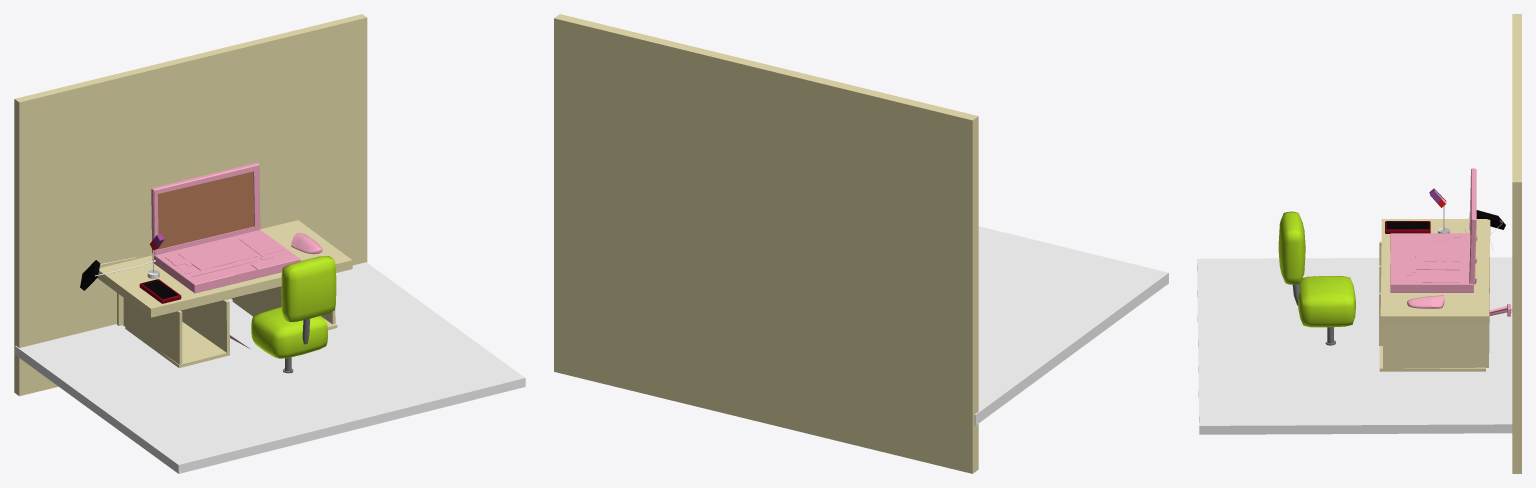
File: scene 2 clean.fbx
The picture shows the model from 3 angles, left to right: view 1: azimuth 30°, elevation 25°; view 2: azimuth 150°, elevation 25°; view 3: azimuth 270°, elevation 25°; orthographic projection. The views are drawn at different scales.
Parts seen in each view (by area): view 1: pCube1, pCube2, asset4laptop_pCube2, asset3:desktop, asset4laptop_pCube1, asset8_pCube1, asset8_pCube2, asset3:pCube17, asset3:pCube18, asset3:pCube16, asset3:pCube11, ASSET5bugged_pCube1; view 2: pCube1, pCube2; view 3: pCube2, asset3:desktop, asset4laptop_pCube1, asset3:pCube13, pCube1, asset8_pCube2, asset8_pCube1, asset4laptop_pCube2, ASSET5bugged_pCube1, asset3:pCube15, asset5:pDisc2.
Boxes of the visible parts, <box> form: pCube1: <box>14,14,367,396</box>; pCube2: <box>15,262,525,473</box>; asset4laptop_pCube2: <box>151,162,260,255</box>; asset3:desktop: <box>97,220,352,317</box>; asset4laptop_pCube1: <box>152,229,300,293</box>; asset8_pCube1: <box>281,256,336,321</box>; asset8_pCube2: <box>251,307,327,358</box>; asset3:pCube17: <box>123,298,182,364</box>; asset3:pCube18: <box>181,299,229,353</box>; asset3:pCube16: <box>125,322,229,367</box>; asset3:pCube11: <box>231,286,281,315</box>; ASSET5bugged_pCube1: <box>139,279,181,303</box>; pCube1: <box>554,14,978,473</box>; pCube2: <box>974,226,1168,425</box>; pCube2: <box>1197,257,1512,434</box>; asset3:desktop: <box>1380,219,1490,325</box>; asset4laptop_pCube1: <box>1390,233,1473,292</box>; asset3:pCube13: <box>1383,325,1488,368</box>; pCube1: <box>1512,14,1521,473</box>; asset8_pCube2: <box>1298,276,1355,327</box>; asset8_pCube1: <box>1278,211,1305,284</box>; asset4laptop_pCube2: <box>1469,168,1476,283</box>; ASSET5bugged_pCube1: <box>1385,221,1430,233</box>; asset3:pCube15: <box>1379,346,1485,371</box>; asset5:pDisc2: <box>1407,295,1444,308</box>.
Size of the model in its own units: 41.09 by 33 by 33.33.
7 materials, 7 textured.
